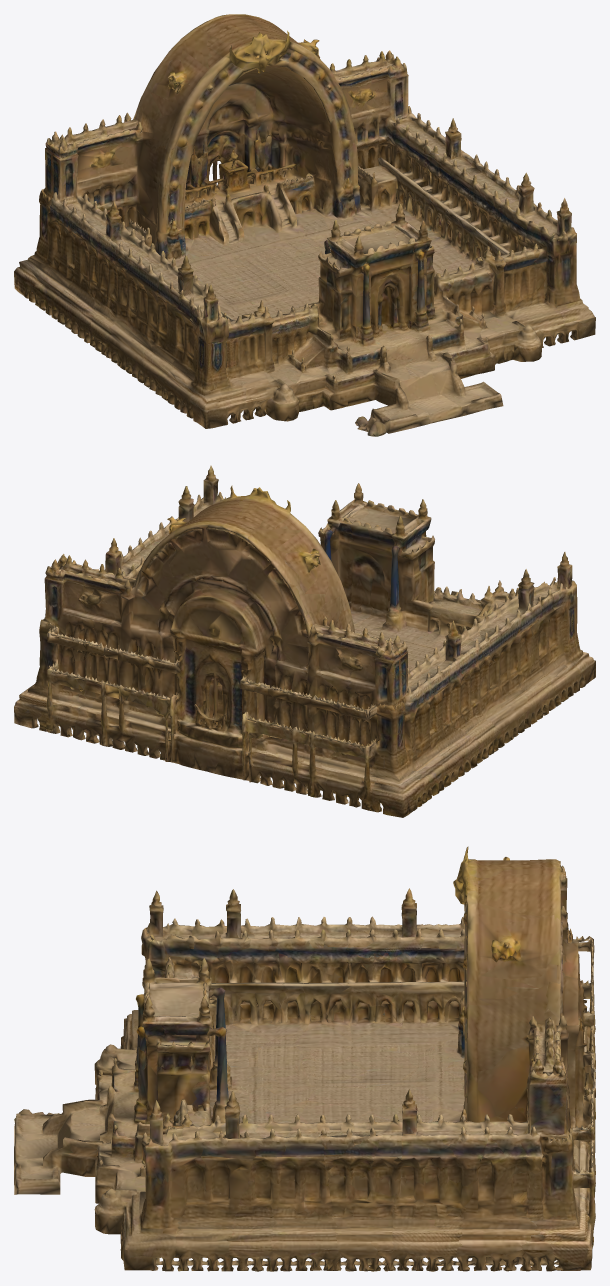
The model's file is MadayenArch.glb.
3 renders of one model, top to bottom at view 1: azimuth 30°, elevation 25°; view 2: azimuth 150°, elevation 25°; view 3: azimuth 270°, elevation 25°, orthographic. The views are drawn at different scales.
Size of the model in its own units: 1.8 by 1.1 by 1.9.
Materials: 1 (1 with a texture image).
